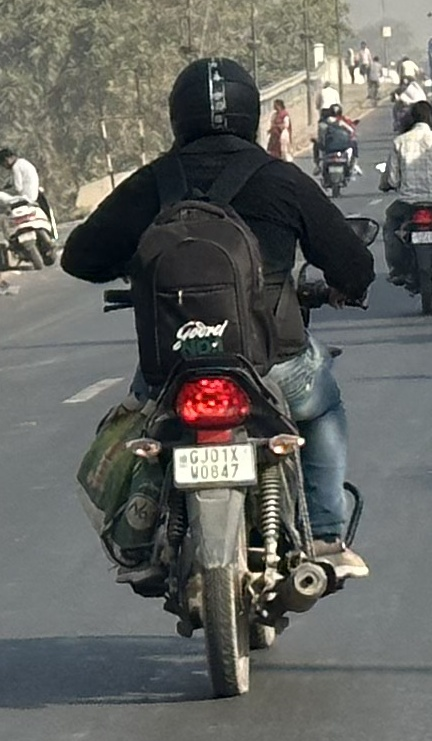BikeWithRider: (53, 48, 385, 707), (369, 89, 432, 322), (0, 141, 64, 276), (303, 77, 368, 201)
Helmet: (157, 49, 270, 160)
